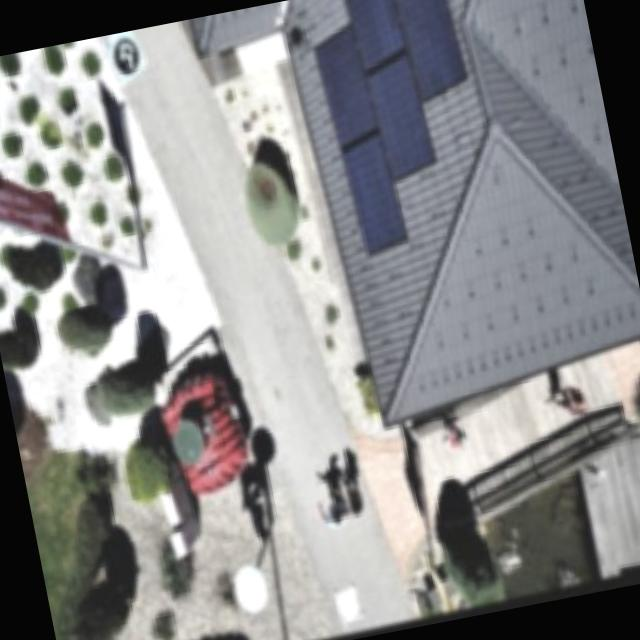Person: (540, 376, 598, 432), (312, 486, 359, 537), (438, 411, 479, 458), (342, 482, 375, 524)
